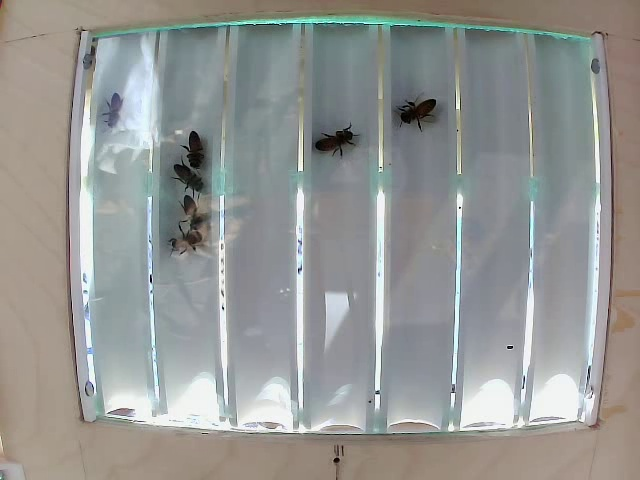bee: (317, 121, 353, 171), (177, 122, 219, 164), (177, 201, 209, 253), (164, 156, 202, 193), (395, 96, 433, 129)
